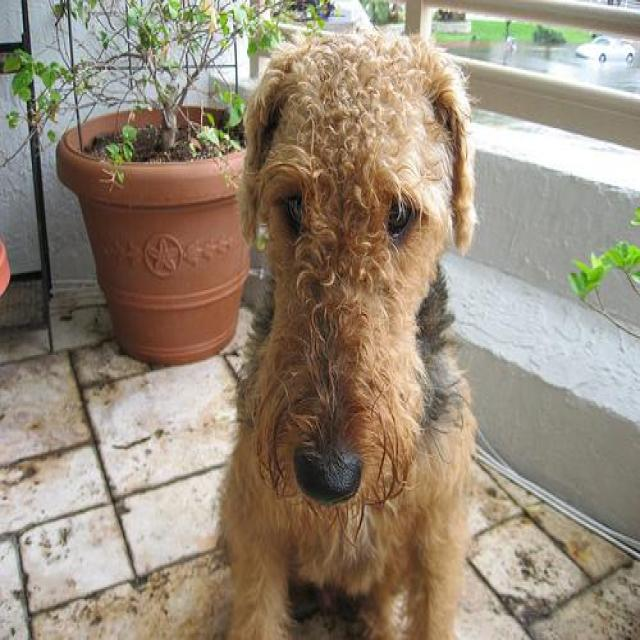airedale: (212, 29, 478, 637)
